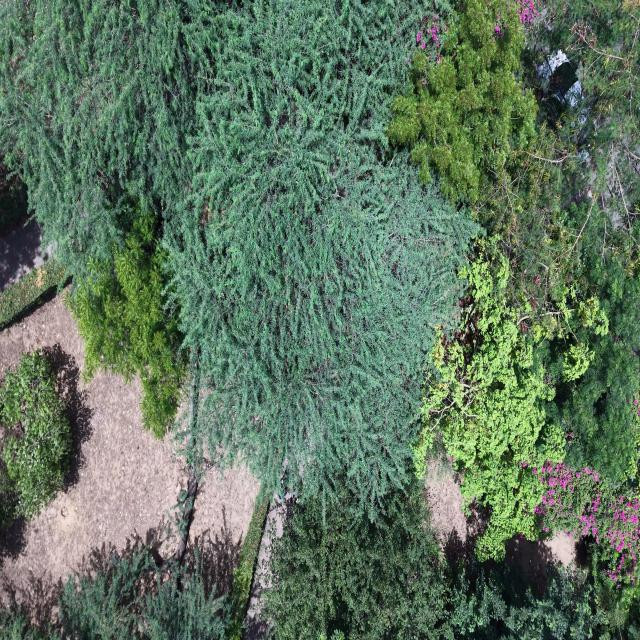DRY_AREA: (0, 297, 186, 621), (0, 296, 186, 607), (243, 494, 290, 639), (244, 495, 288, 638), (426, 457, 481, 553), (0, 220, 49, 290)
VEGETATION_TREE: (0, 0, 639, 638), (0, 2, 476, 513), (165, 0, 475, 515), (417, 3, 639, 539), (474, 2, 639, 636), (0, 2, 210, 436), (512, 2, 639, 581), (501, 2, 639, 482), (0, 0, 212, 282), (265, 482, 617, 639), (263, 491, 619, 639), (415, 225, 564, 557), (536, 2, 639, 482), (415, 240, 564, 558), (500, 195, 638, 482), (0, 493, 269, 639), (388, 0, 536, 202), (265, 480, 451, 639), (541, 205, 639, 483), (70, 211, 186, 438), (529, 0, 639, 228), (0, 545, 229, 639), (59, 548, 229, 639), (448, 557, 621, 639), (534, 463, 639, 593), (534, 463, 639, 582), (0, 352, 72, 524), (228, 491, 270, 639), (0, 255, 65, 329), (0, 260, 66, 328), (0, 161, 27, 237), (0, 608, 41, 639)
